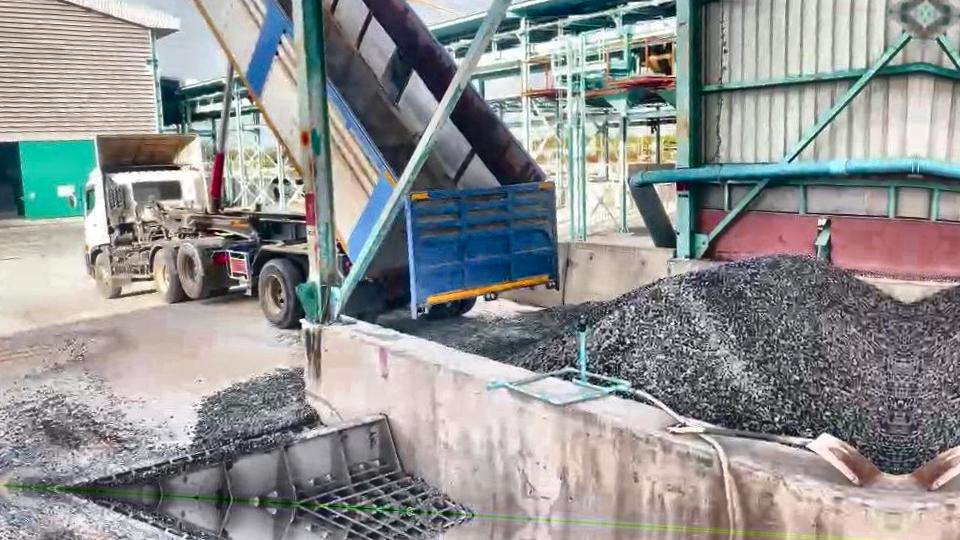gravel: (428, 256, 907, 473), (192, 368, 317, 451)
